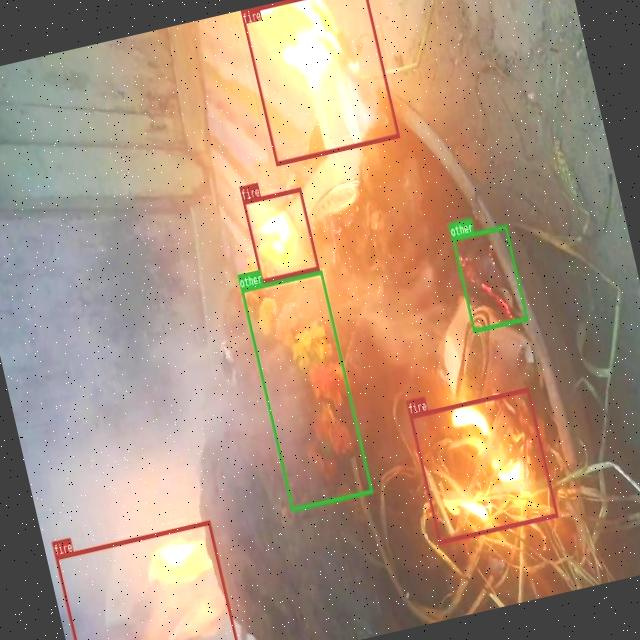fire: (239, 0, 399, 165), (408, 387, 557, 542), (54, 519, 242, 640), (241, 186, 319, 282)
